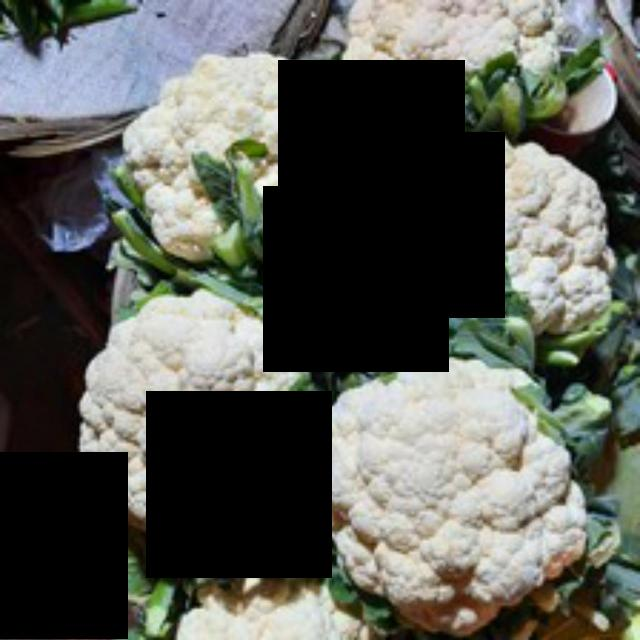cauliflower: (92, 22, 366, 266)
